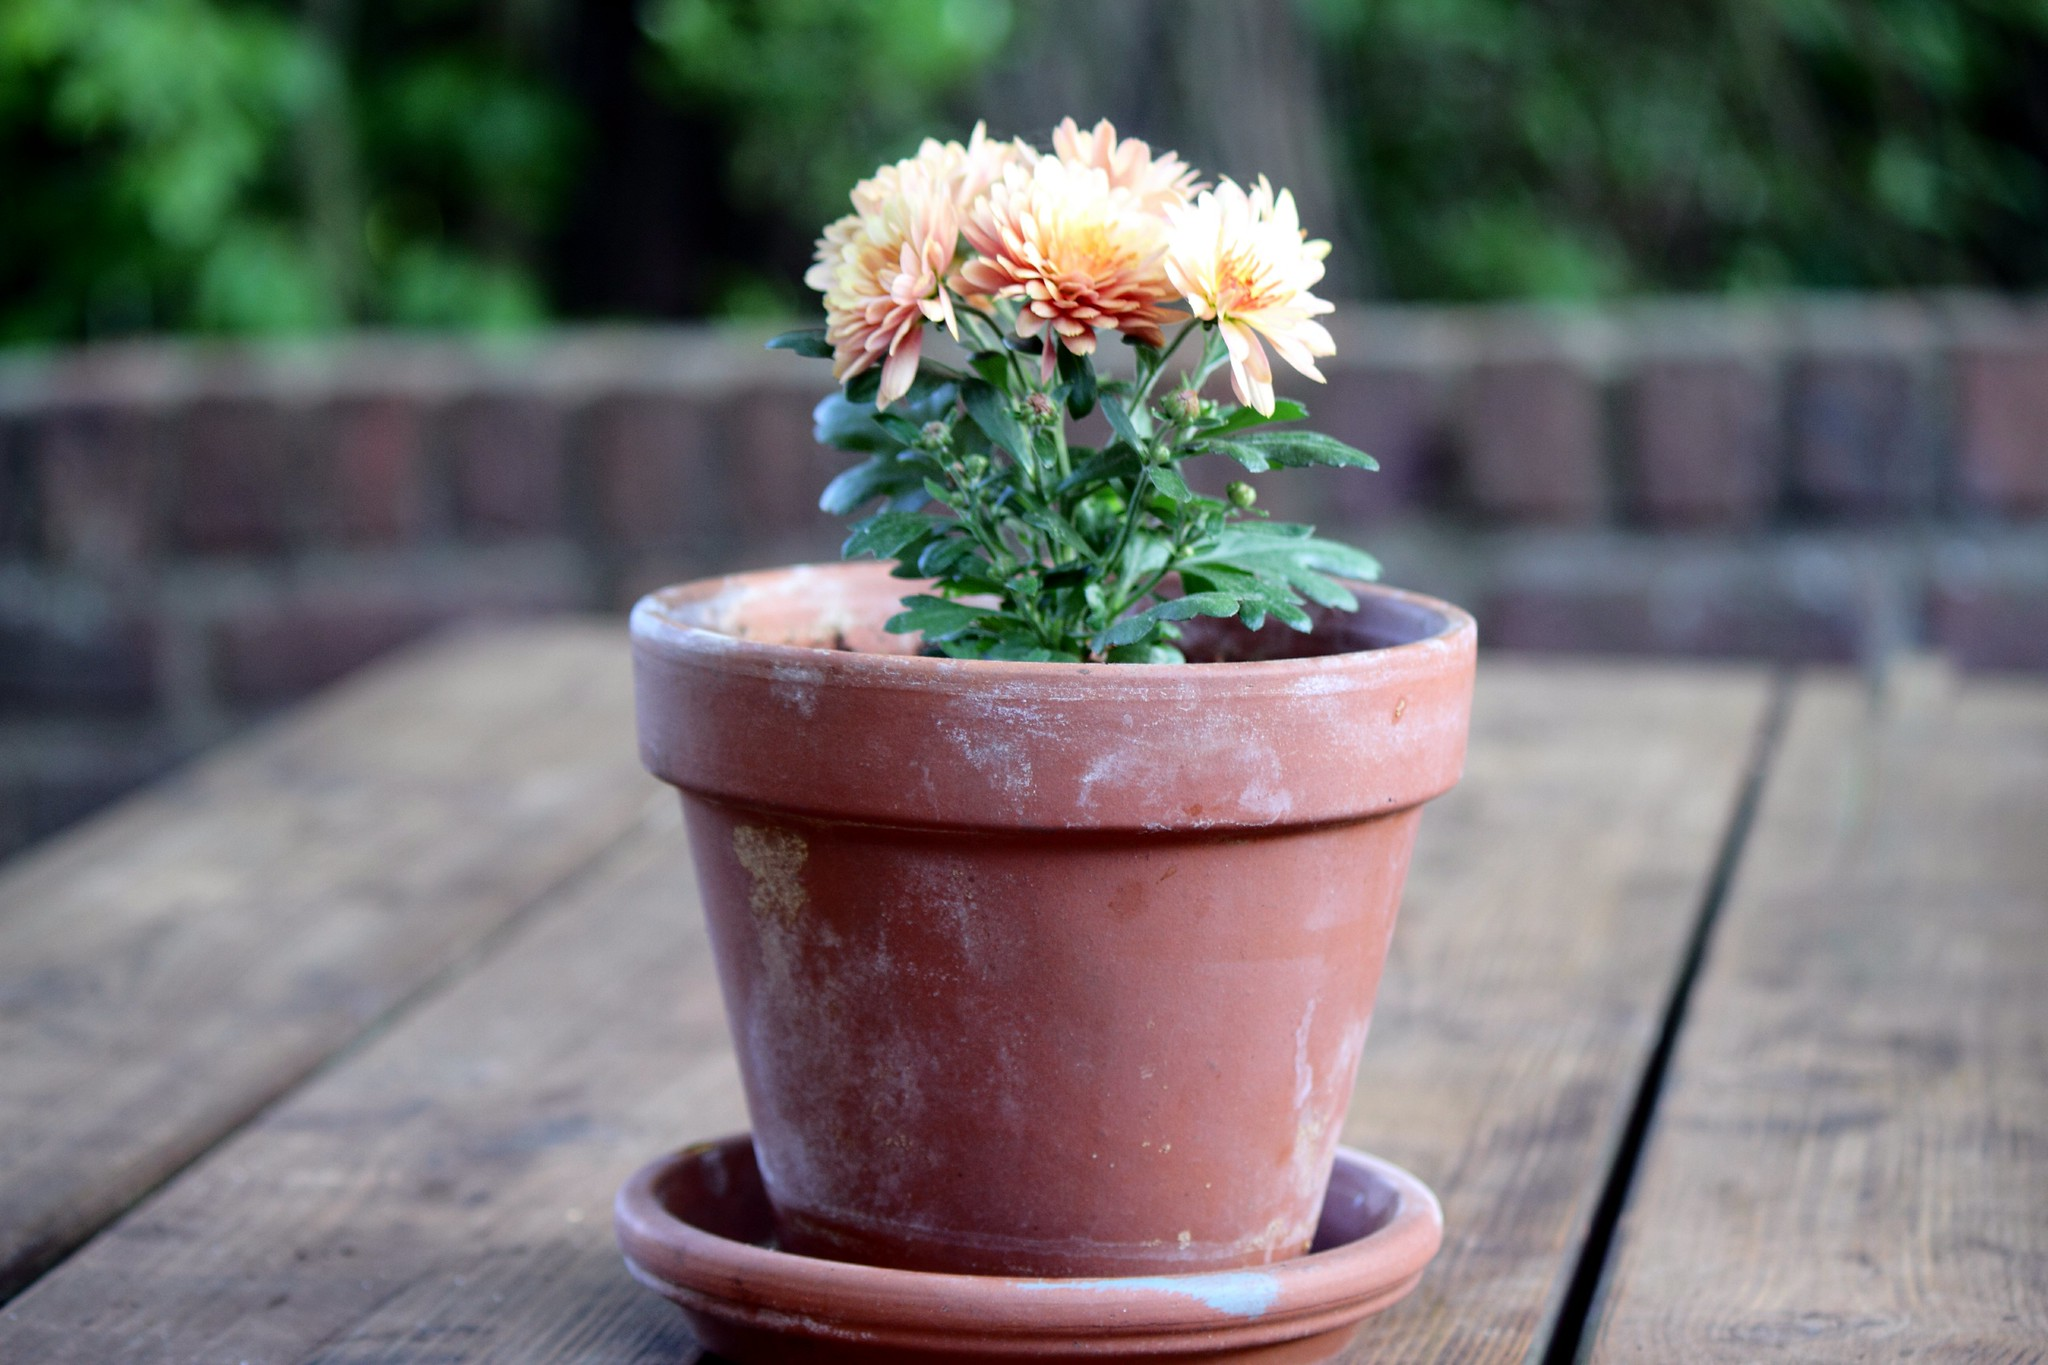potted plant: (579, 104, 1533, 1336)
